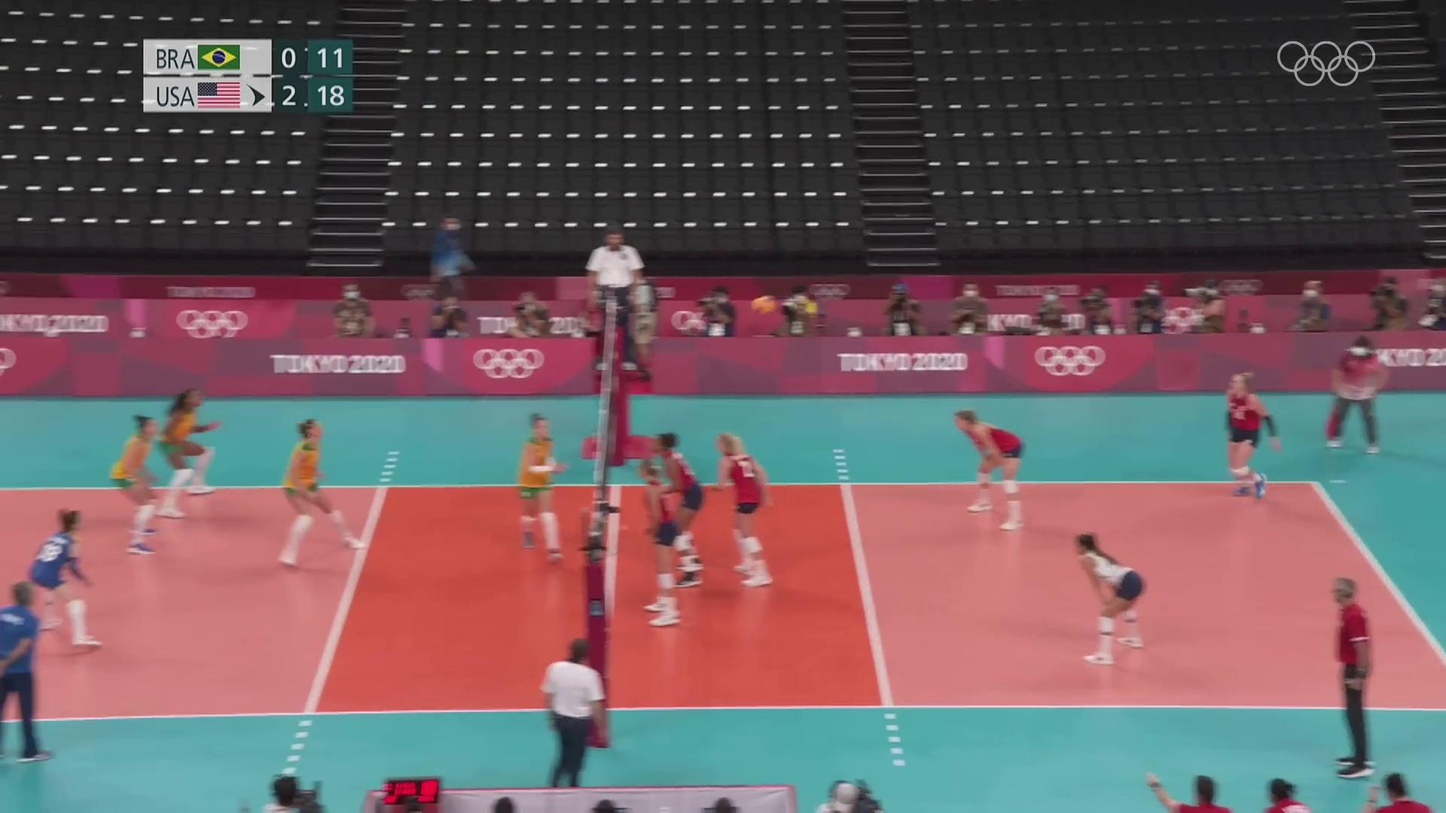player: (279, 420, 358, 568), (25, 509, 104, 651), (712, 433, 774, 590), (1073, 533, 1148, 662), (953, 408, 1029, 531), (651, 431, 706, 592), (510, 415, 567, 568), (632, 459, 681, 629), (107, 416, 165, 559), (158, 387, 222, 515), (1224, 371, 1277, 503)
refree: (541, 638, 612, 793), (589, 226, 645, 372), (1326, 334, 1392, 457)
